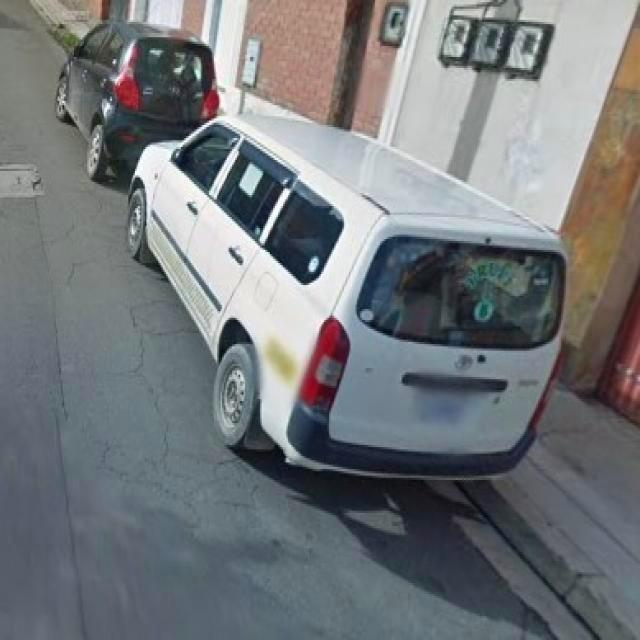Car: (192, 86, 564, 497), (56, 11, 209, 188)
